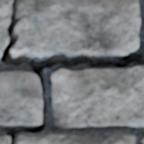brick: (51, 66, 143, 128), (0, 71, 41, 124)
broken_brick: (12, 0, 141, 56), (17, 134, 135, 143), (0, 0, 11, 54), (0, 135, 9, 143)
crack: (0, 0, 143, 143), (77, 0, 121, 1)
